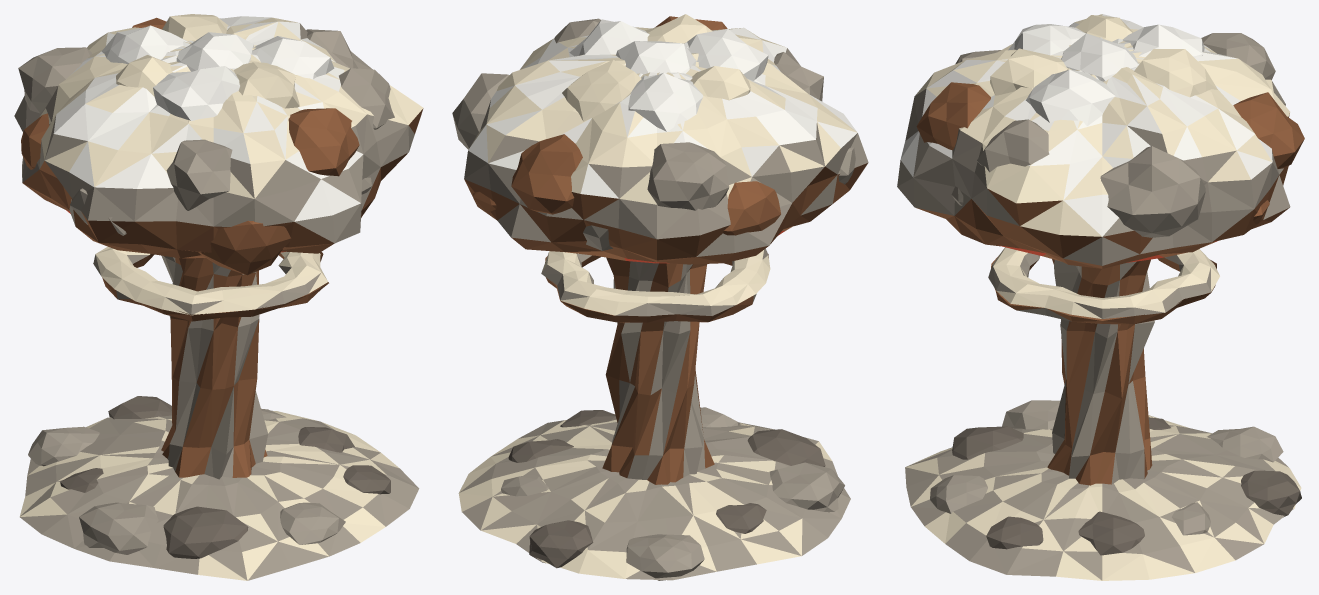
File: Cutscene_MushroomCloud.fbx
3 renders of one model, left to right at view 1: azimuth 30°, elevation 25°; view 2: azimuth 150°, elevation 25°; view 3: azimuth 270°, elevation 25°, orthographic.
Visible parts, largest first — view 1: Cap, Base, Stem, Skirt; view 2: Cap, Base, Stem, Skirt; view 3: Cap, Base, Stem, Skirt.
Part boxes in pixels (<box>): Cap: <box>14,14,423,275</box>; Base: <box>19,396,419,580</box>; Stem: <box>161,255,268,479</box>; Skirt: <box>93,246,328,321</box>; Cap: <box>452,14,868,264</box>; Base: <box>458,407,850,580</box>; Stem: <box>602,257,714,484</box>; Skirt: <box>541,248,770,322</box>; Cap: <box>897,14,1304,268</box>; Base: <box>905,400,1301,580</box>; Stem: <box>1047,259,1154,485</box>; Skirt: <box>988,247,1219,324</box>.
Bounding box in the file's own units: 193 × 247 × 195.
